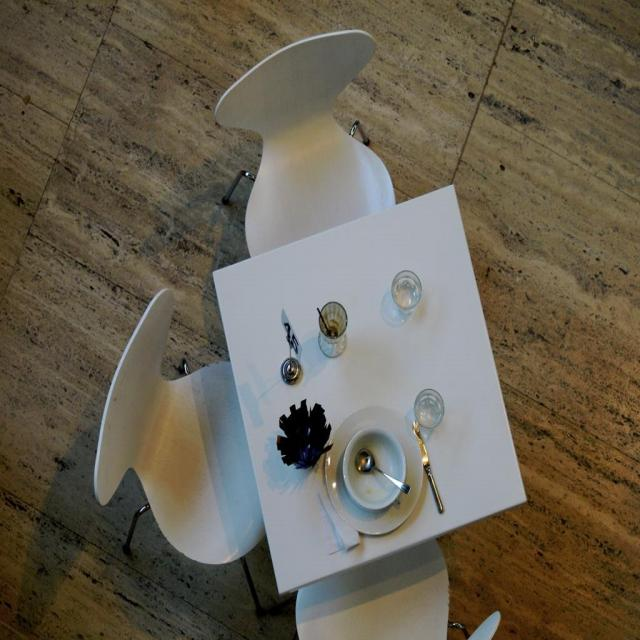Table: (98, 114, 524, 620)
